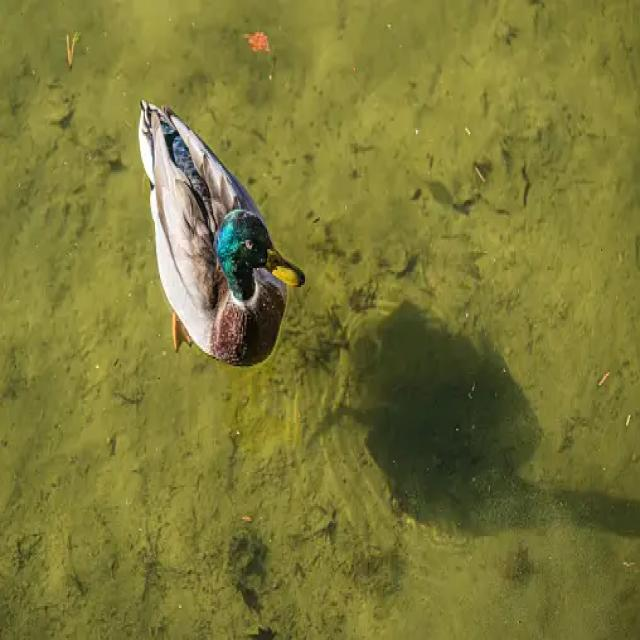ducks: (106, 78, 319, 384)
